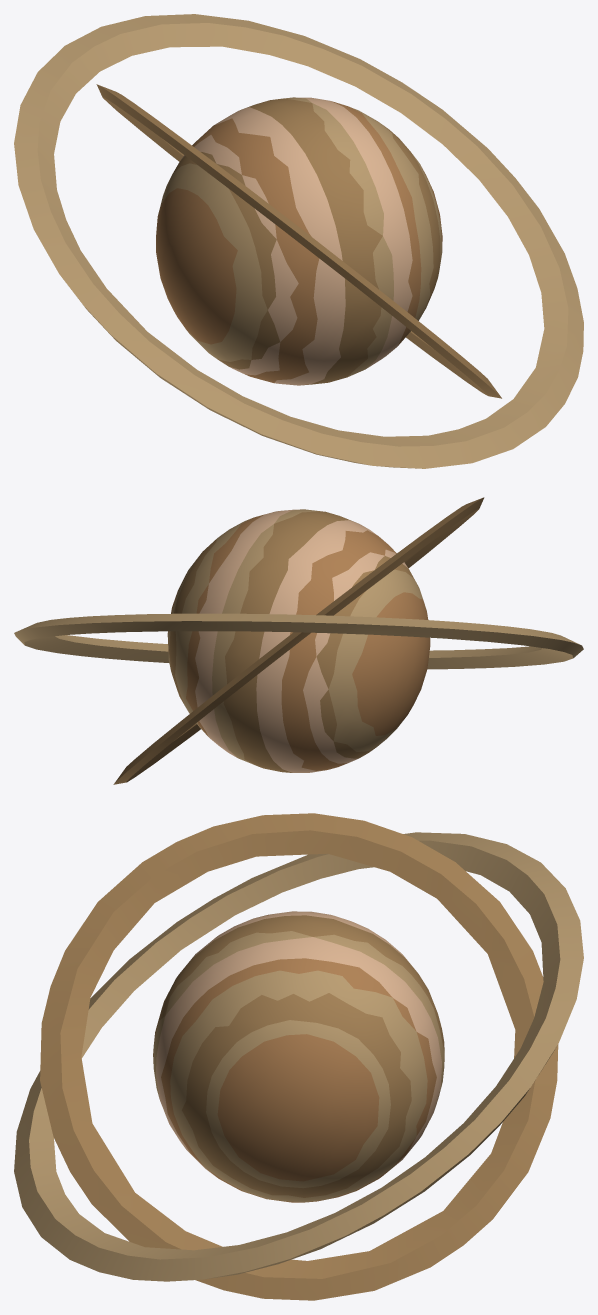
Rendered from n_planet_7.glb.
3 views of the same model, one above another, from view 1: azimuth 30°, elevation 25°; view 2: azimuth 150°, elevation 25°; view 3: azimuth 270°, elevation 25° (orthographic). The views are drawn at different scales.
Parts seen in each view (by area): view 1: Planet_7; view 2: Planet_7; view 3: Planet_7.
Part boxes in pixels (x1,y1,x2,y2): Planet_7: [14, 14, 583, 468]; Planet_7: [14, 497, 583, 784]; Planet_7: [14, 813, 583, 1300].
Bounding box in the file's own units: 4.81 × 2.87 × 4.46.
1 material, 1 textured.
